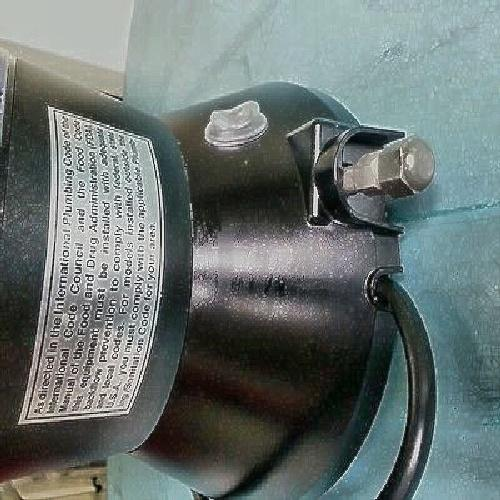coffee_maker: (20, 67, 417, 448)
